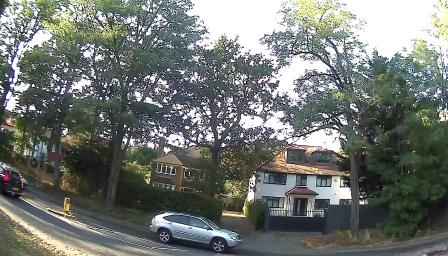Cars: (148, 207, 238, 251), (0, 162, 28, 199), (6, 157, 34, 193)
